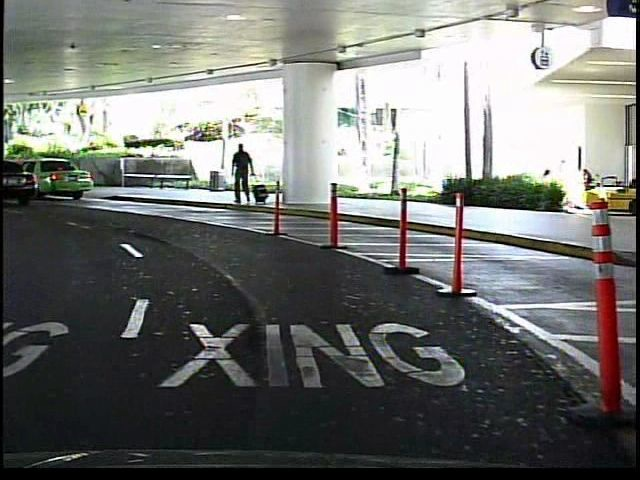person: (229, 140, 260, 211)
